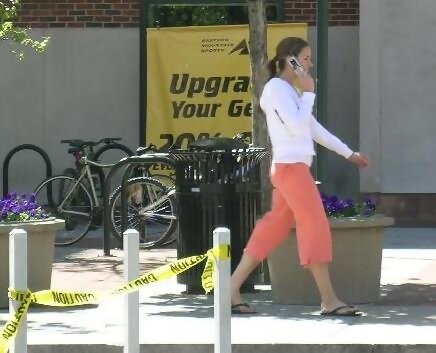person: (226, 35, 377, 321)
